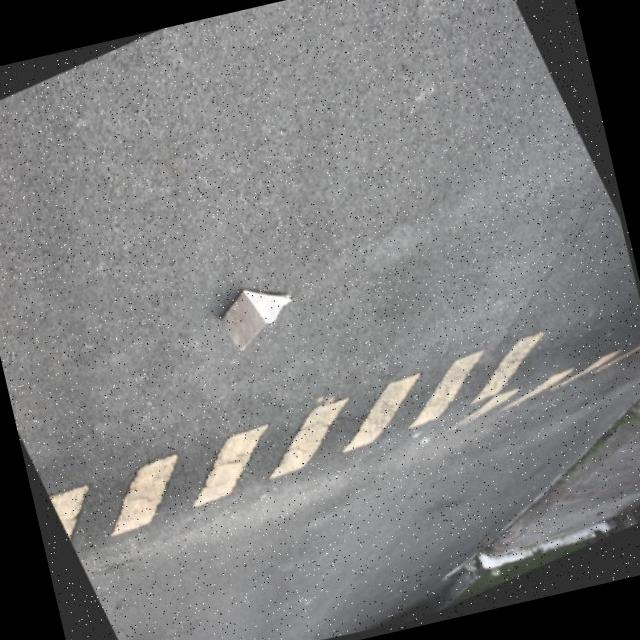Kardus: (215, 278, 302, 354)
